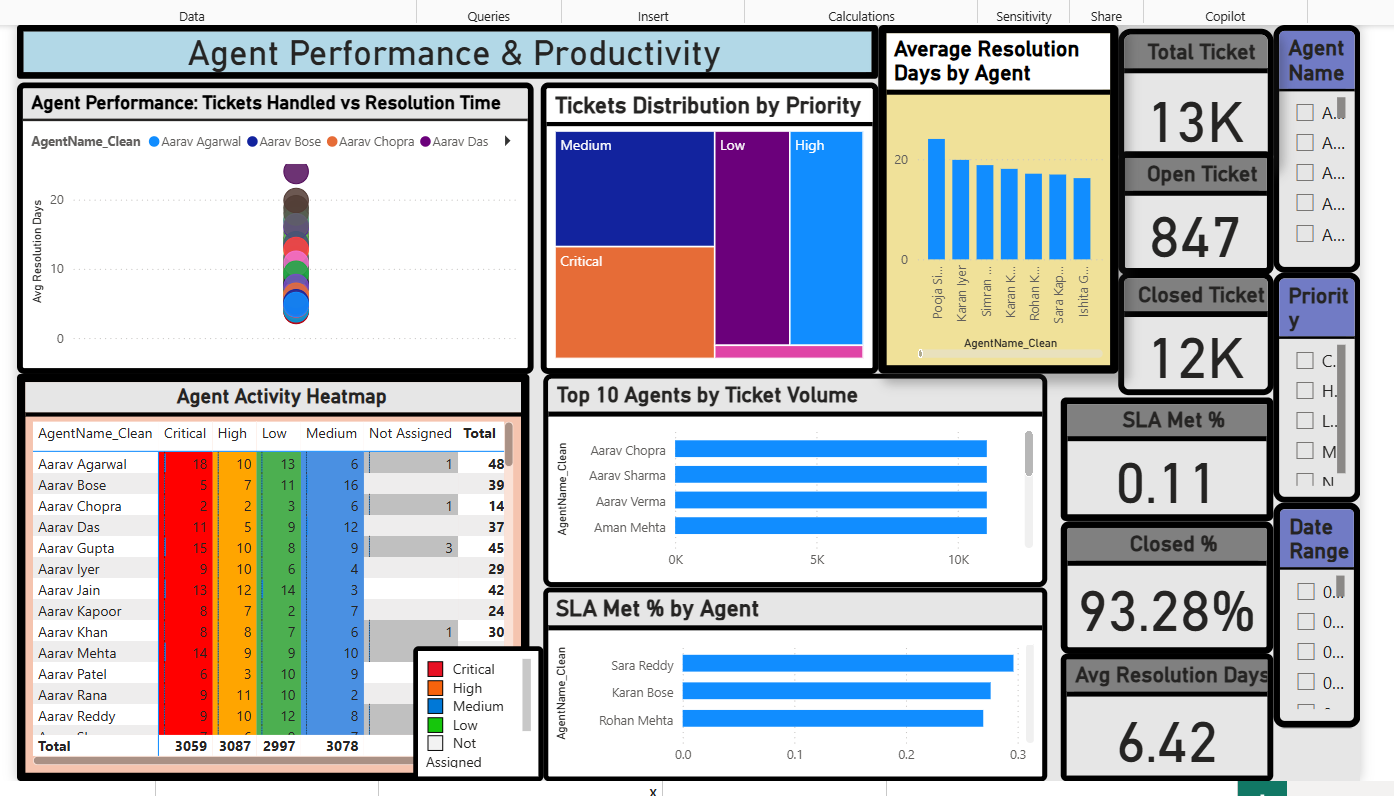

The page's visual inventory and layout, read from the dashboard file:
{"tool":"powerbi","page":{"name":"Agent Performance & Productivity","canvas":[1280,720],"ordinal":2},"visuals":[{"type":"textbox","title":"Agent Performance & Productivity","box":[0,0,820.2,51.2],"z":0},{"type":"slicer","title":"Agent Name","fields":{"Values":["tickets.AgentName_Clean"]},"box":[1196.4,0,83.3,235.7],"z":1000},{"type":"slicer","title":"Date Range","fields":{"Values":["DateTable.Date"]},"box":[1196.4,454.8,83.3,214.3],"z":2000},{"type":"slicer","title":"Priority","fields":{"Values":["tickets.priority"]},"box":[1196.4,235.7,83.3,219],"z":3000},{"type":"card","title":"Total Ticket","fields":{"Values":["all_measures.Total Tickets"]},"box":[1048.8,3.6,147.6,131],"z":4000},{"type":"card","title":"Closed Ticket","fields":{"Values":["all_measures.Closed Tickets"]},"box":[1048.8,235.7,147.6,116.7],"z":5000},{"type":"card","title":"Open Ticket","fields":{"Values":["all_measures.Open Tickets"]},"box":[1048.8,120.2,147.6,117.9],"z":6000},{"type":"card","title":"Closed %","fields":{"Values":["all_measures.Closed %"]},"box":[994.1,472.6,202.4,126.2],"z":7000},{"type":"card","title":"SLA Met %","fields":{"Values":["all_measures.SLA Met %"]},"box":[994.1,354.8,202.4,117.9],"z":8000},{"type":"card","title":"Avg Resolution Days","fields":{"Values":["all_measures.Avg Resolution Days"]},"box":[994.1,598.8,202.4,121.4],"z":9000},{"type":"treemap","title":"Tickets Distribution by Priority","fields":{"Values":["CountNonNull(tickets.ticket_id)"],"Group":["tickets.priority"]},"box":[498.8,54.8,321.4,277.4],"z":10000},{"type":"clusteredBarChart","title":"Top 10 Agents by Ticket Volume","fields":{"Category":["tickets.AgentName_Clean"],"Y":["all_measures.Total Tickets (No Unassigned)"]},"box":[501.2,332.1,479.8,203.6],"z":11000},{"type":"clusteredColumnChart","title":"Average Resolution Days by Agent","fields":{"Category":["tickets.AgentName_Clean"],"Y":["all_measures.Avg Resolution Days"]},"box":[820.2,0,228.6,332.1],"z":12000},{"type":"clusteredBarChart","title":"SLA Met % by Agent","fields":{"Category":["tickets.AgentName_Clean"],"Y":["all_measures.SLA Met %"]},"box":[501.2,535.7,479.8,184.5],"z":13000},{"type":"pivotTable","title":"Agent Activity Heatmap","fields":{"Rows":["tickets.AgentName_Clean"],"Columns":["tickets.priority"],"Values":["CountNonNull(tickets.ticket_id)"]},"box":[0,332.1,488.1,388.1],"z":14000},{"type":"textbox","box":[377.4,591.7,123.8,128.6],"z":15000},{"type":"scatterChart","title":"Agent Performance: Tickets Handled vs Resolution Time","fields":{"Y":["all_measures.Avg Resolution Days"],"Series":["tickets.AgentName_Clean"],"Size":["all_measures.Total Tickets (No Unassigned)"]},"box":[0,54.8,491.7,277.4],"z":16000}]}

Visuals, with their boxes in screenshot pixels (x1, y1, x2, y2):
"Agent Performance & Productivity" textbox: <box>29,22,879,75</box>
"Agent Name" slicer: <box>1268,22,1355,266</box>
"Date Range" slicer: <box>1268,493,1355,715</box>
"Priority" slicer: <box>1268,266,1355,493</box>
"Total Ticket" card: <box>1116,26,1268,161</box>
"Closed Ticket" card: <box>1116,266,1268,387</box>
"Open Ticket" card: <box>1116,146,1268,268</box>
"Closed %" card: <box>1059,511,1269,642</box>
"SLA Met %" card: <box>1059,389,1269,511</box>
"Avg Resolution Days" card: <box>1059,642,1269,768</box>
"Tickets Distribution by Priority" treemap: <box>546,79,879,366</box>
"Top 10 Agents by Ticket Volume" clusteredBarChart: <box>548,366,1045,577</box>
"Average Resolution Days by Agent" clusteredColumnChart: <box>879,22,1116,366</box>
"SLA Met % by Agent" clusteredBarChart: <box>548,577,1045,768</box>
"Agent Activity Heatmap" pivotTable: <box>29,366,535,768</box>
textbox: <box>420,635,548,768</box>
"Agent Performance: Tickets Handled vs Resolution Time" scatterChart: <box>29,79,538,366</box>
